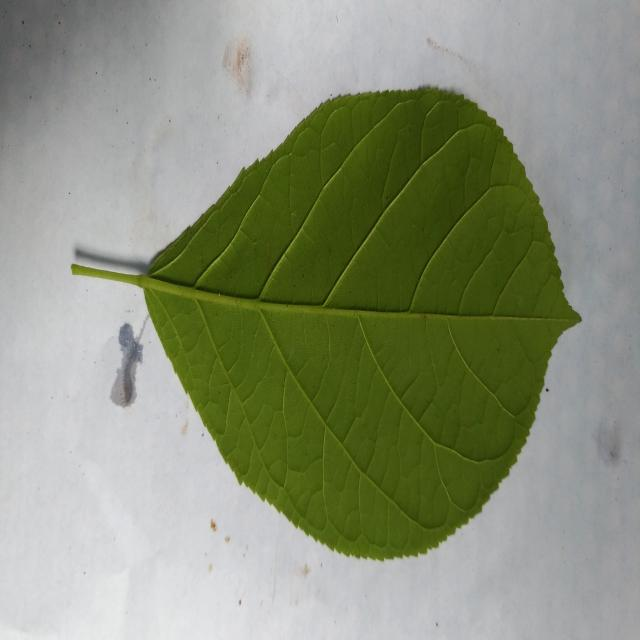padri: (144, 89, 579, 558)
